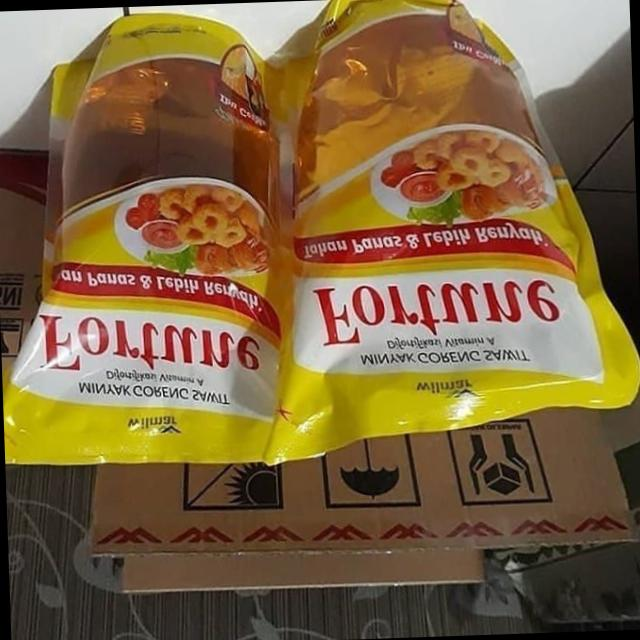KemasanPlastik: (245, 0, 640, 474), (0, 8, 309, 468)
